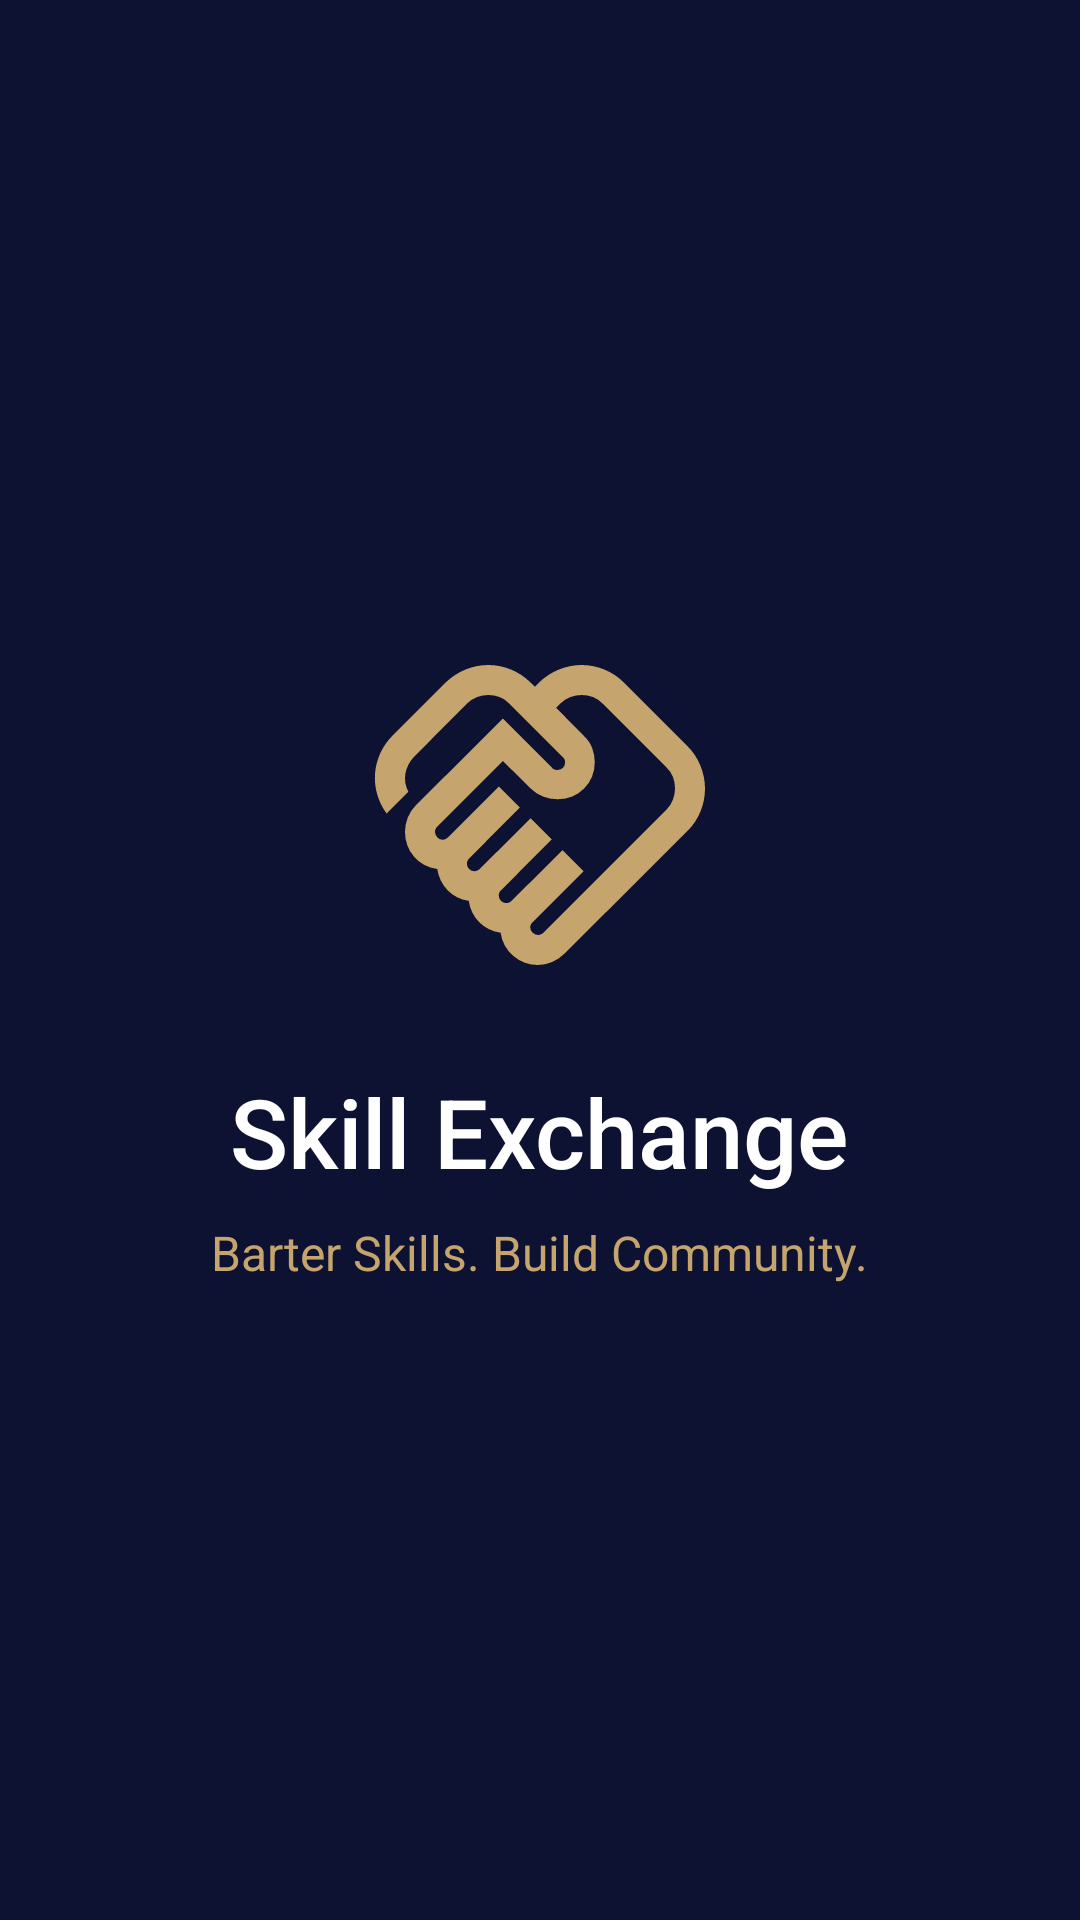

Icons on this 1080w x 1920h Android screen, each with its box as bbox=[x1, y1, x2, y2]:
handshake: bbox=[375, 665, 705, 965]
